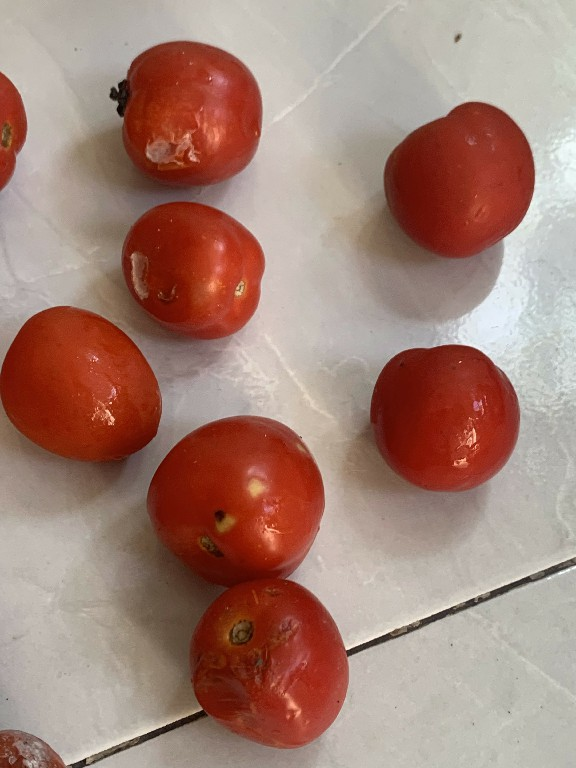NG: (186, 575, 351, 754), (147, 412, 326, 576), (107, 38, 269, 188), (113, 195, 273, 343)
OK: (371, 94, 538, 262), (0, 298, 161, 467), (364, 340, 527, 500)
